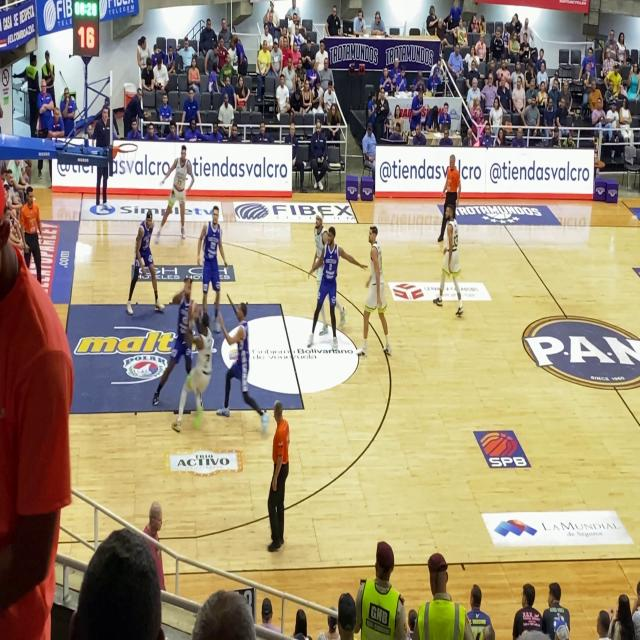Ball: (185, 298, 203, 324)
referee: (264, 394, 292, 566), (22, 178, 45, 273), (440, 153, 463, 210)
team1: (358, 222, 397, 365), (182, 294, 221, 426), (426, 208, 472, 319), (159, 132, 196, 246), (310, 197, 326, 264)
team2: (308, 224, 352, 361), (221, 291, 260, 432), (126, 208, 164, 332), (165, 276, 196, 402), (197, 199, 226, 312)
ubasket: (118, 140, 140, 167)
